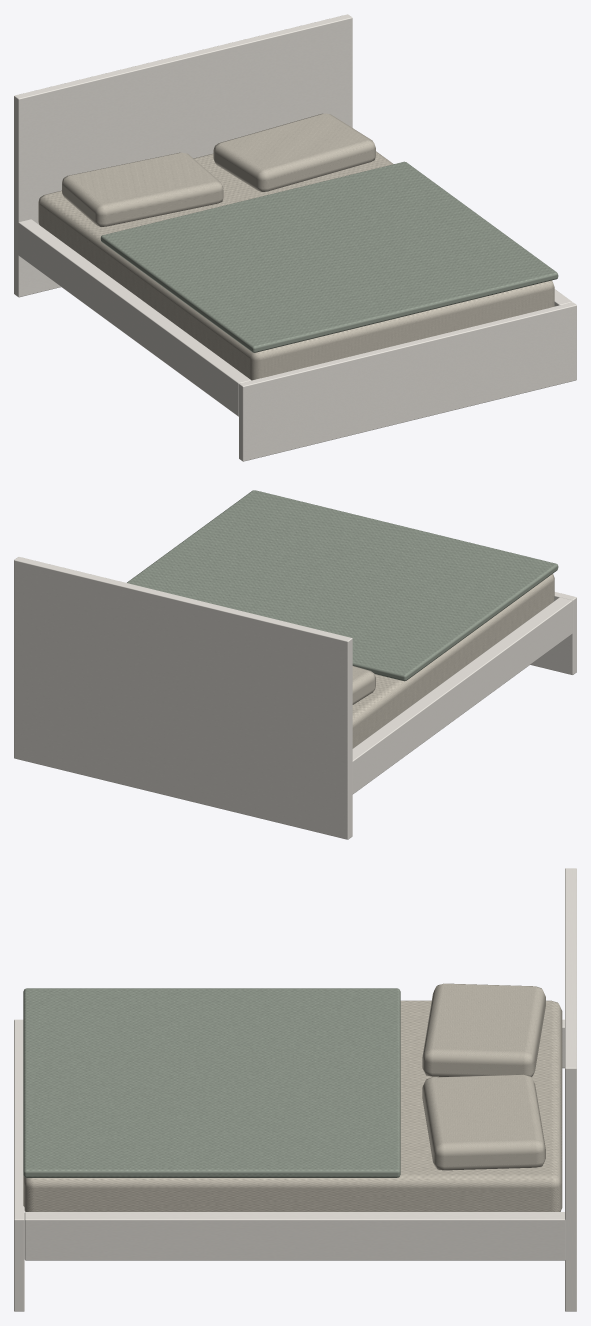
Rendered from malm-bed-mobile.glb.
The picture shows the model from 3 angles, top to bottom: view 1: azimuth 30°, elevation 25°; view 2: azimuth 150°, elevation 25°; view 3: azimuth 270°, elevation 25°; orthographic projection. The views are drawn at different scales.
Parts seen in each view (by area): view 1: MALM Bed frame · 160 × 200 mattress; view 2: MALM Bed frame · 160 × 200 mattress; view 3: MALM Bed frame · 160 × 200 mattress.
Part boxes in pixels (x1=…): MALM Bed frame · 160 × 200 mattress: x1=14, y1=14, x2=576, y2=461; MALM Bed frame · 160 × 200 mattress: x1=14, y1=490, x2=576, y2=839; MALM Bed frame · 160 × 200 mattress: x1=14, y1=868, x2=576, y2=1311.
Bounding box in the file's own units: 1.76 × 1 × 2.09.
Materials: 3 (3 with a texture image).
